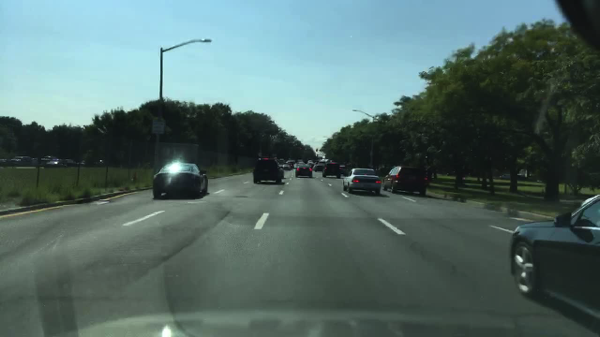car: (509, 194, 599, 308), (151, 162, 208, 199), (382, 166, 427, 196), (342, 168, 381, 194), (252, 158, 281, 183), (294, 163, 312, 178), (322, 163, 340, 178), (11, 156, 30, 166), (41, 156, 58, 167), (338, 164, 352, 176), (374, 167, 391, 176), (45, 158, 62, 166), (445, 169, 462, 177), (313, 162, 325, 173), (499, 173, 520, 179), (1, 154, 9, 166), (77, 160, 92, 166), (63, 159, 77, 165), (93, 161, 106, 167), (314, 159, 325, 166), (285, 162, 295, 169), (282, 164, 291, 171), (31, 158, 38, 166), (295, 162, 304, 166), (326, 159, 335, 163), (279, 159, 285, 163), (307, 161, 313, 165), (286, 161, 296, 163), (296, 160, 302, 162)
traffic sign: (152, 117, 166, 134), (315, 156, 322, 159)
